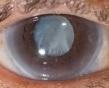eye: (11, 13, 98, 81)
